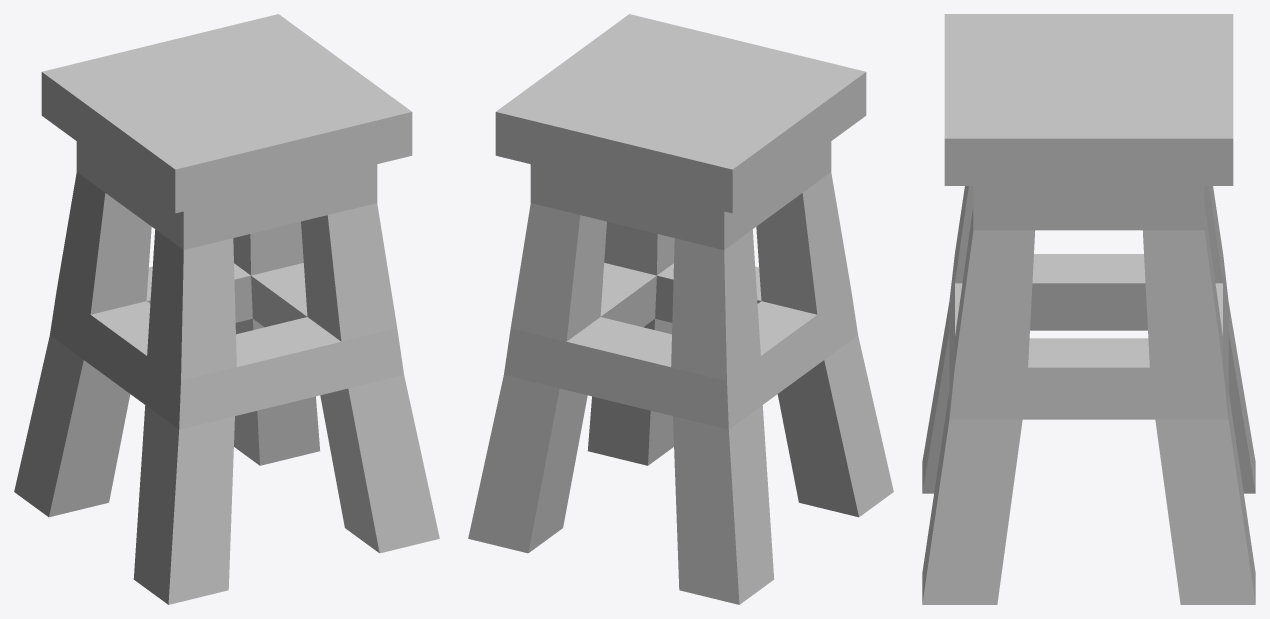
Rendered from Stool.glb.
3 views of the same model, side by side, from view 1: azimuth 30°, elevation 25°; view 2: azimuth 150°, elevation 25°; view 3: azimuth 270°, elevation 25° (orthographic). The views are drawn at different scales.
Visible parts, largest first — view 1: Stool; view 2: Stool; view 3: Stool.
Boxes of the visible parts, <box> form: Stool: <box>14,14,439,604</box>; Stool: <box>468,14,893,604</box>; Stool: <box>922,14,1255,604</box>.
Size of the model in its own units: 0.3663 by 0.5463 by 0.361.
Materials: 2 (2 with a texture image).
